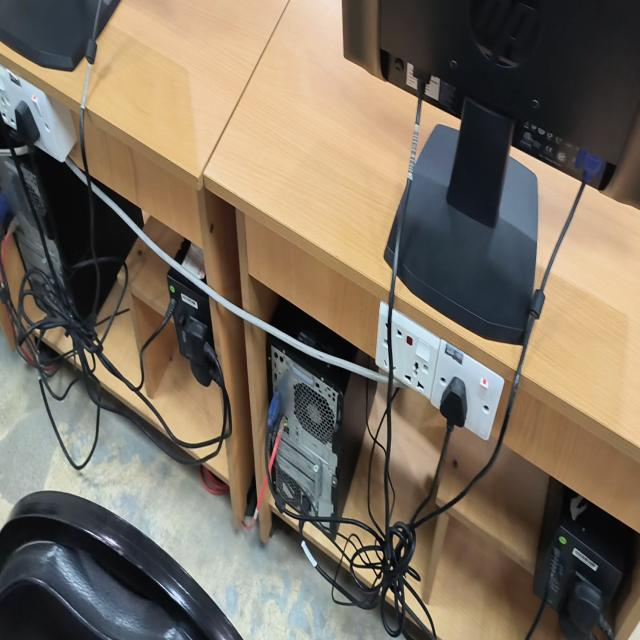Chair: (0, 491, 242, 639)
Cpu: (11, 148, 136, 324), (267, 340, 349, 515), (275, 309, 349, 354)
Monitor: (375, 0, 640, 344), (0, 0, 98, 71), (97, 0, 119, 31)
